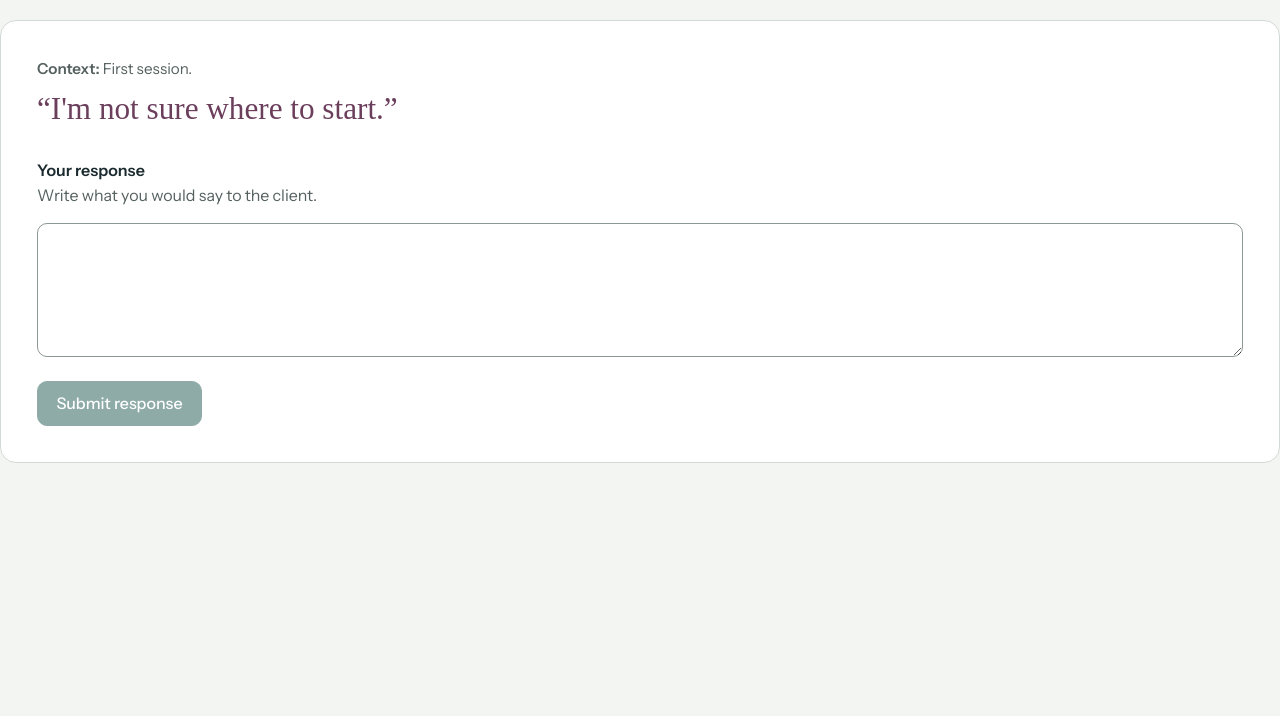
Scenario: drill card with AI feedback › feature on: nothing before the self-check is saved; then a button; the AI is asked only when it is pressed
The width and height of the screenshot is (1280, 716).
expect the text "AI check of your response" is not shown: met
Type "What brings you here today? Say as much as you like." into the text box labelled "Your response" at x=640, y=290, box [37, 223, 1243, 357]
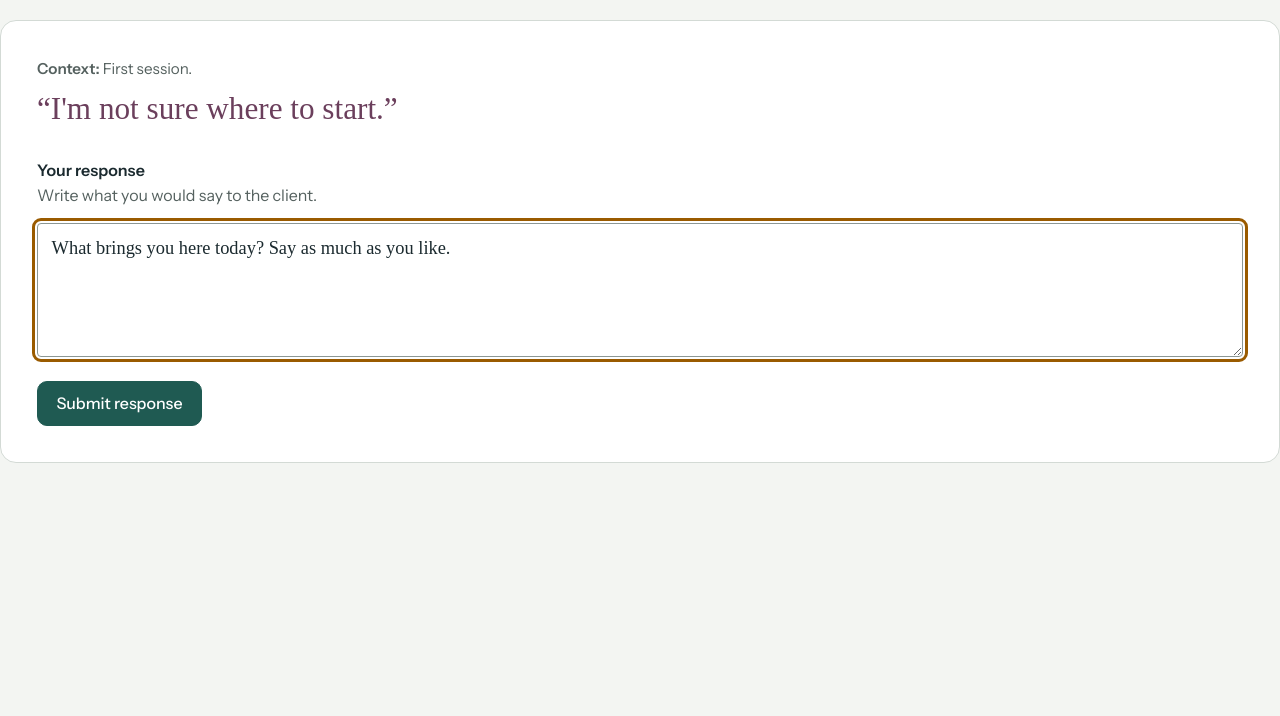
Click the button "Submit response" at x=120, y=404, box [37, 381, 202, 426]
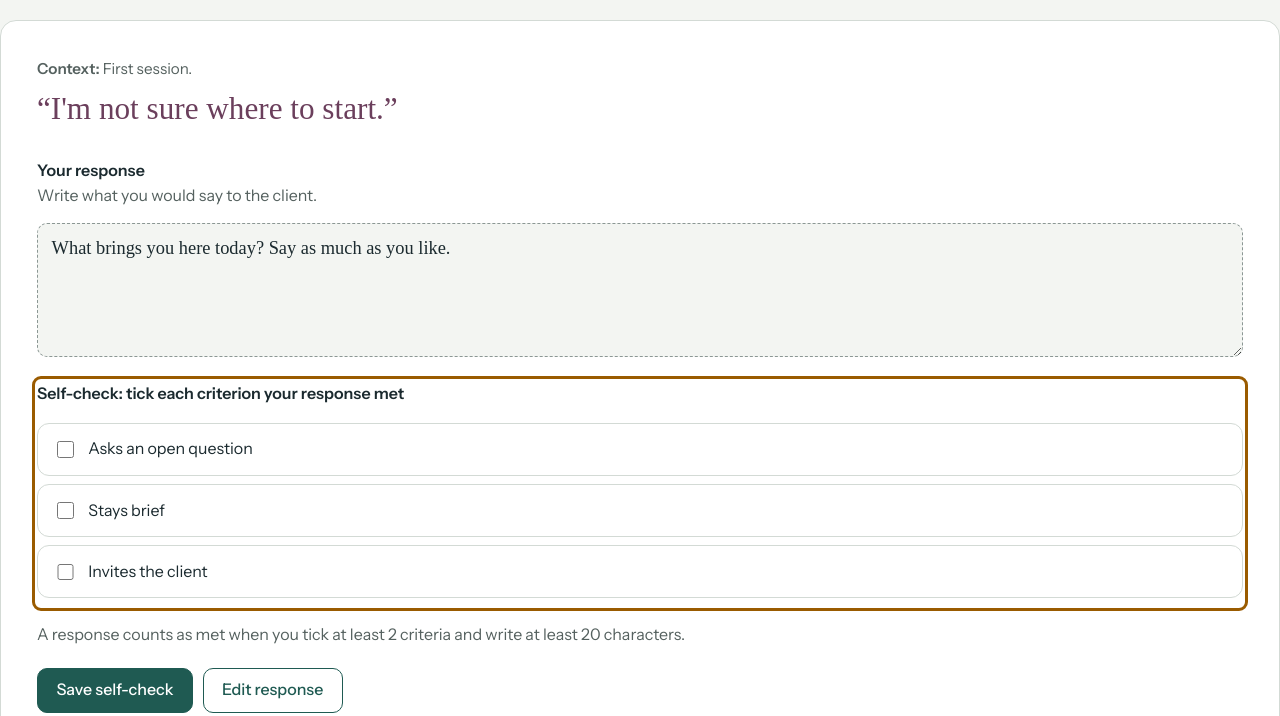
Click the checkbox labelled "Asks an open question" at x=66, y=450, box [57, 441, 74, 458]
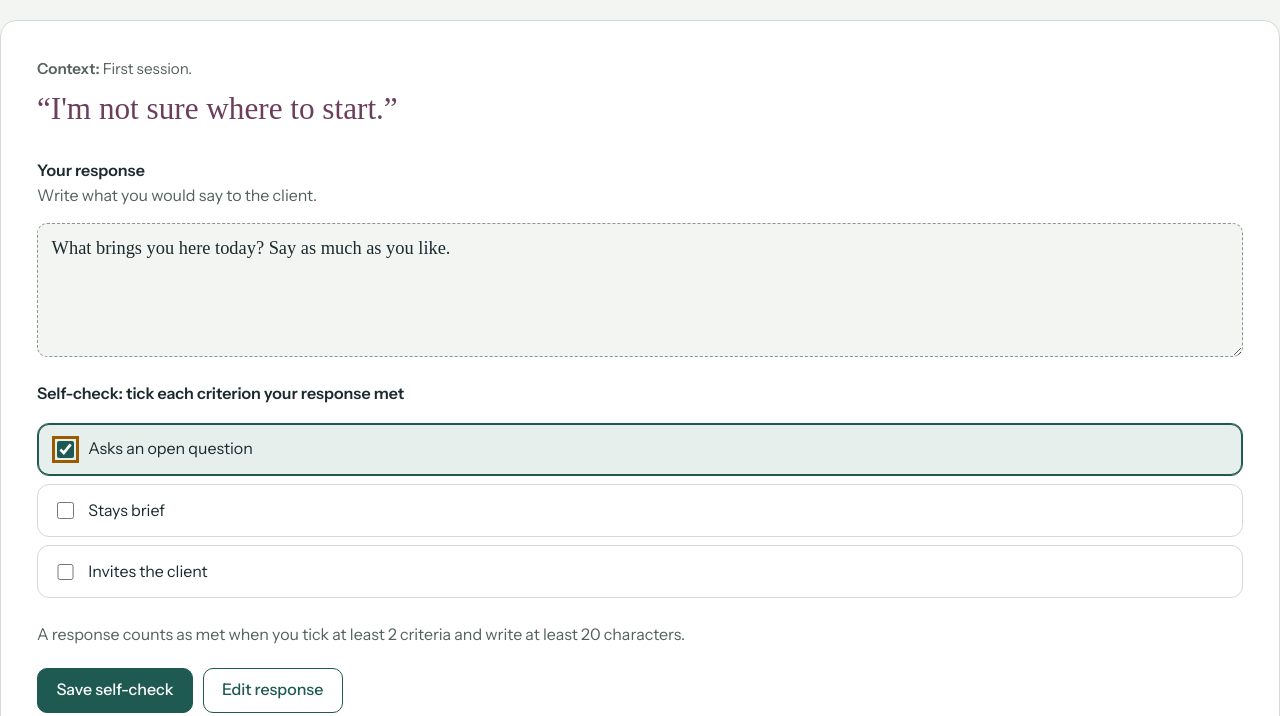
Click the checkbox labelled "Invites the client" at x=66, y=572, box [57, 564, 74, 580]
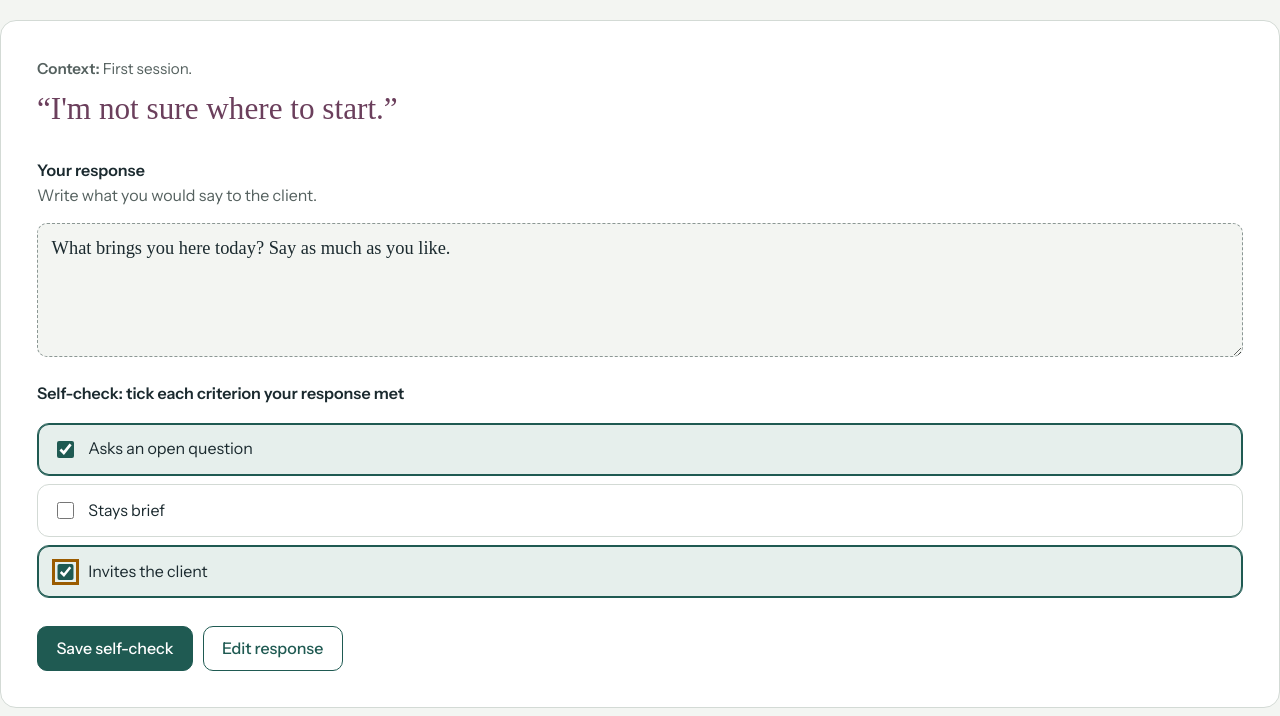
Click the button "Save self-check" at x=115, y=649, box [37, 626, 193, 671]
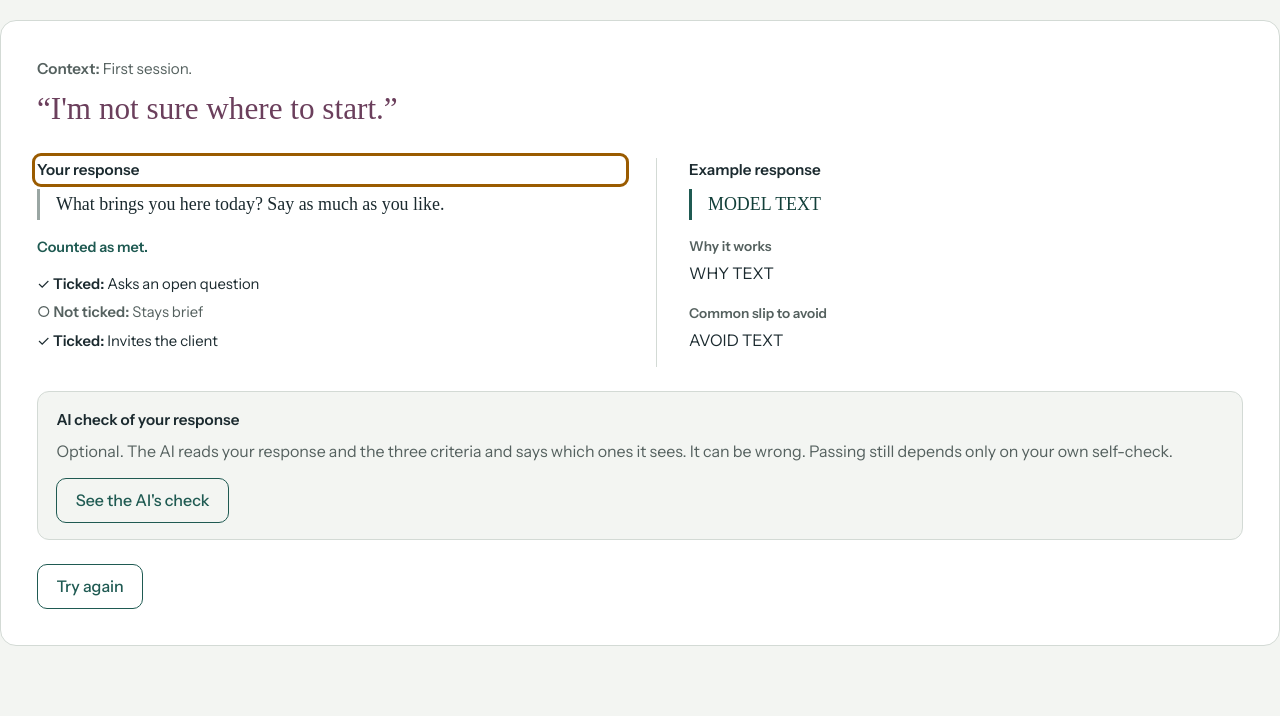
Click the button "See the AI's check" at x=143, y=500, box [56, 478, 229, 523]
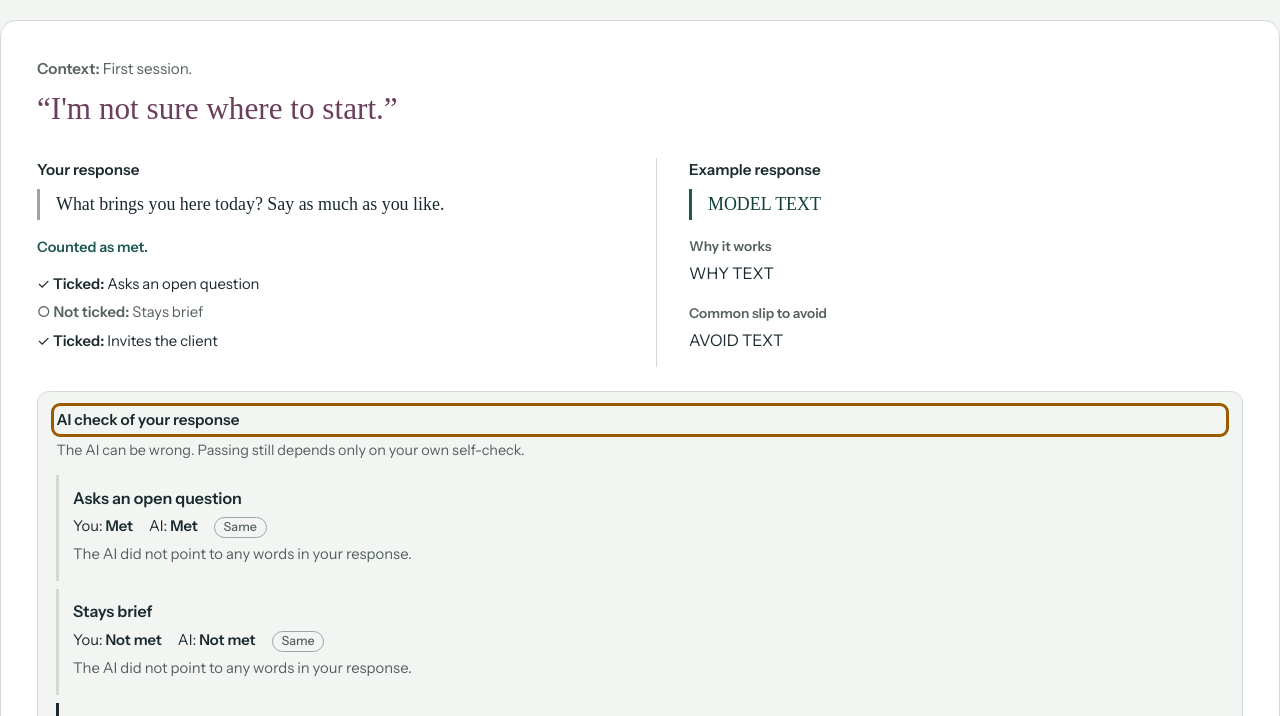
expect the text "The AI can be wrong. Passing still depends only on your own self-check." is shown: met, box [56, 441, 525, 459]
